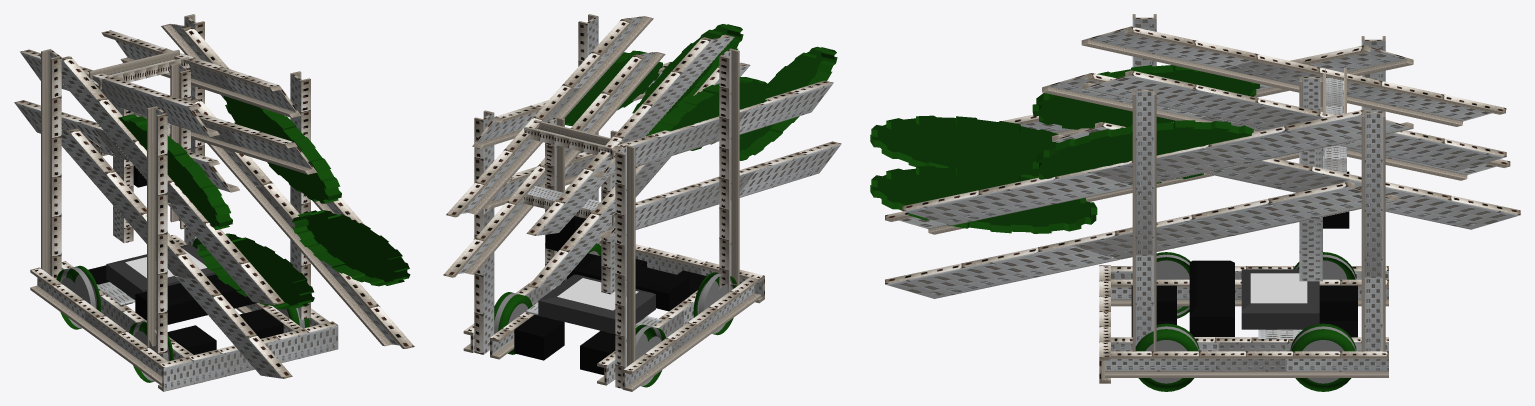
Rendered from chassis.fbx.
The picture shows the model from 3 angles, left to right: view 1: azimuth 30°, elevation 25°; view 2: azimuth 150°, elevation 25°; view 3: azimuth 270°, elevation 25°; orthographic projection. The views are drawn at different scales.
Parts seen in each view (by area): view 1: chassis, bottom upper, bottom lower, top lower, top upper, double 4 bar holder, claw box; view 2: chassis, top lower, top upper, bottom upper, bottom lower, double 4 bar holder, claw box; view 3: chassis, bottom upper, top lower, top upper, bottom lower, double 4 bar holder, claw box.
Part boxes in pixels (bbox=[...]): chassis: bbox=[30, 14, 338, 391]; bottom upper: bbox=[39, 23, 410, 309]; bottom lower: bbox=[61, 98, 414, 378]; top lower: bbox=[14, 96, 341, 229]; top upper: bbox=[20, 30, 300, 136]; double 4 bar holder: bbox=[147, 71, 310, 354]; claw box: bbox=[89, 49, 190, 243]; chassis: bbox=[463, 110, 764, 391]; top lower: bbox=[443, 50, 770, 288]; top upper: bbox=[446, 16, 734, 235]; bottom upper: bbox=[472, 24, 837, 177]; bottom lower: bbox=[484, 132, 841, 238]; double 4 bar holder: bbox=[578, 14, 739, 292]; claw box: bbox=[524, 116, 623, 294]; chassis: bbox=[1099, 36, 1388, 391]; bottom upper: bbox=[870, 45, 1413, 233]; top lower: bbox=[1032, 65, 1520, 229]; top upper: bbox=[1081, 26, 1506, 170]; bottom lower: bbox=[885, 153, 1397, 298]; double 4 bar holder: bbox=[1132, 14, 1156, 351]; claw box: bbox=[1299, 67, 1349, 281].
Size of the model in its own units: 1828 by 2788 by 5452.
56 materials, 41 textured.
